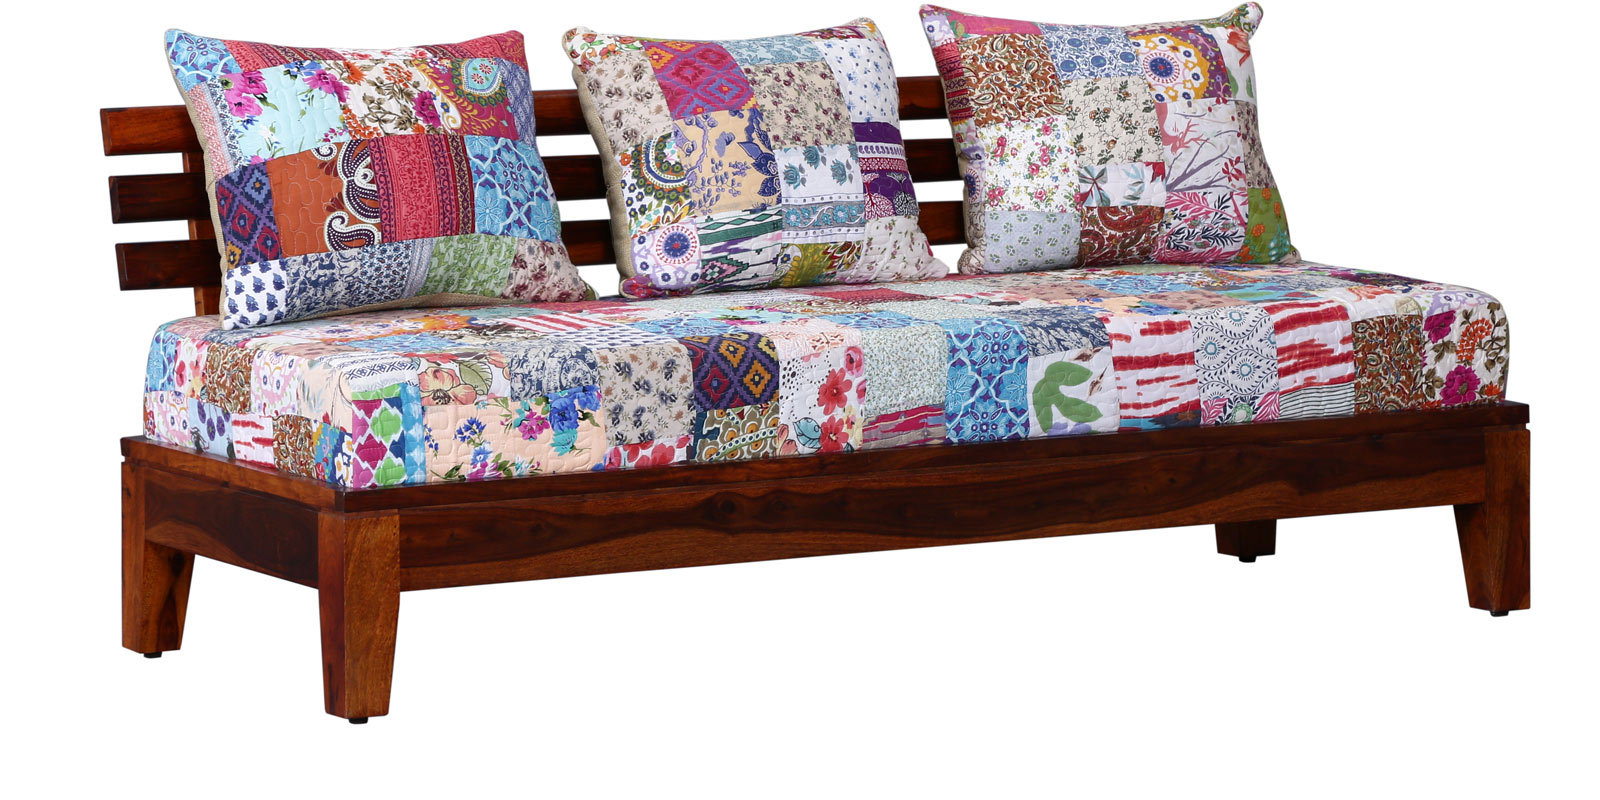Hayden Three Seater Sofa in Honey Oak Finish by Bohemiana: (68, 13, 1579, 740)
